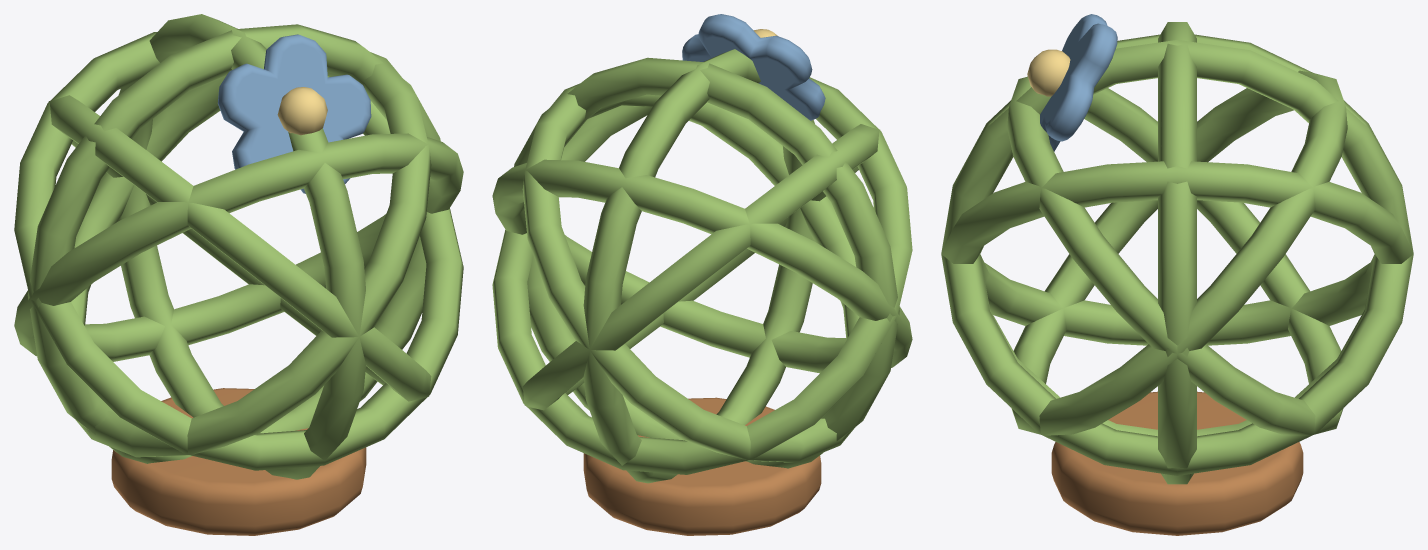
Rendered from woven_bamboo_sphere.glb.
3 views of the same model, side by side, from view 1: azimuth 30°, elevation 25°; view 2: azimuth 150°, elevation 25°; view 3: azimuth 270°, elevation 25° (orthographic). The views are drawn at different scales.
Visible parts, largest first — view 1: woven_bamboo_sphere_mesh; view 2: woven_bamboo_sphere_mesh; view 3: woven_bamboo_sphere_mesh.
Boxes of the visible parts, x1,y1,x2,y2 form: woven_bamboo_sphere_mesh: [14, 14, 463, 535]; woven_bamboo_sphere_mesh: [492, 14, 912, 535]; woven_bamboo_sphere_mesh: [941, 14, 1413, 535].
Bounding box in the file's own units: 0.338 × 0.369 × 0.338.
